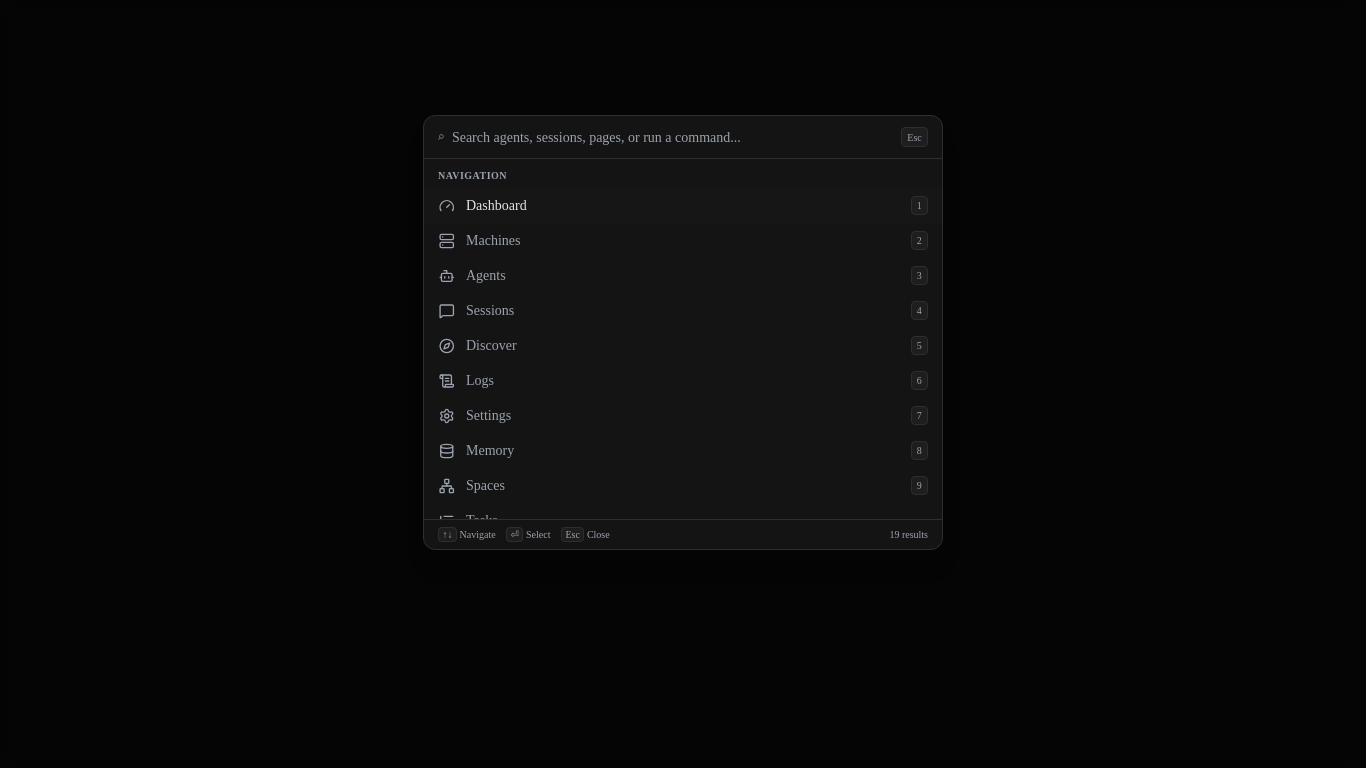
Test case: CommandPalette › shows search-mode empty state when no grouped matches
Type "xyznonexistent" into the field with placeholder "Search agents, sessions, pages, or run a command...".
click(673, 137); type("xyznonexistent")  # box [452, 127, 894, 148]
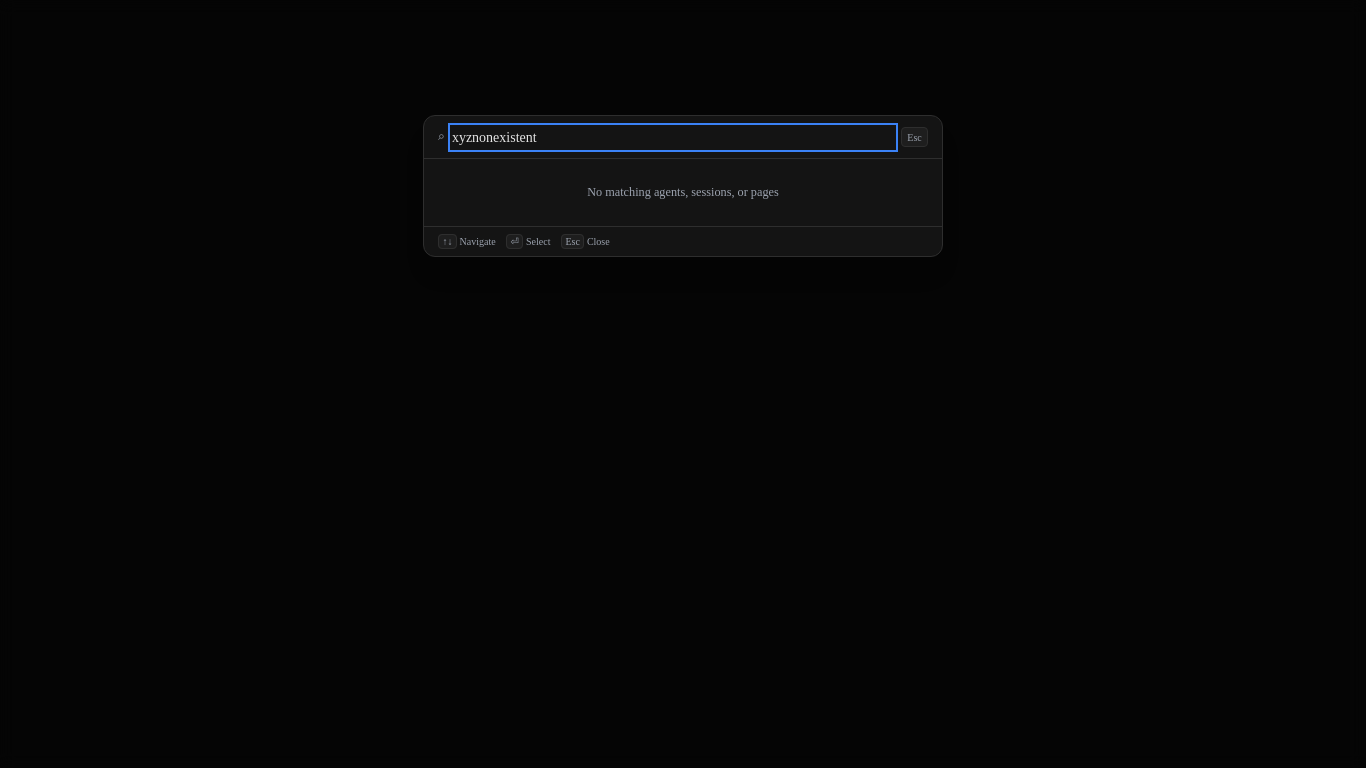
Expected: the text "No matching agents, sessions, or pages" is shown, [587, 185, 779, 199]
